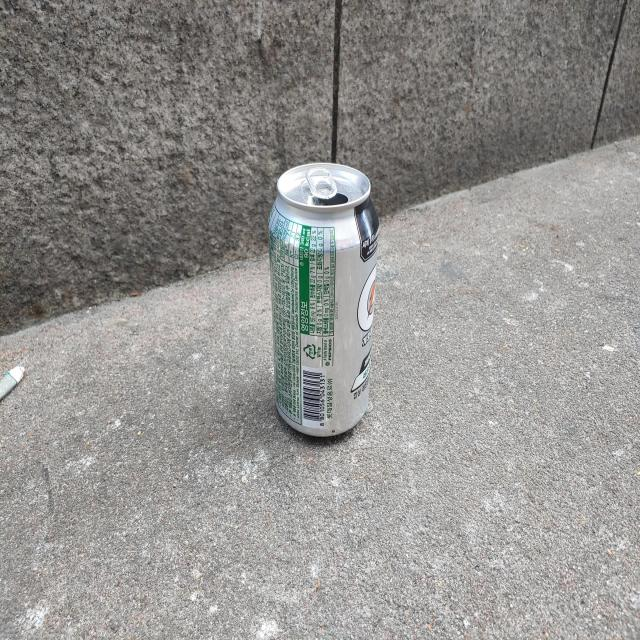can: (269, 163, 379, 436)
